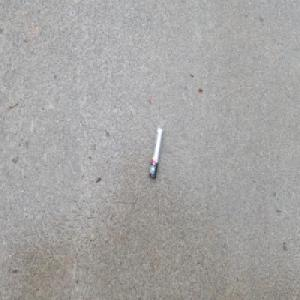Battery: (149, 126, 163, 181)
